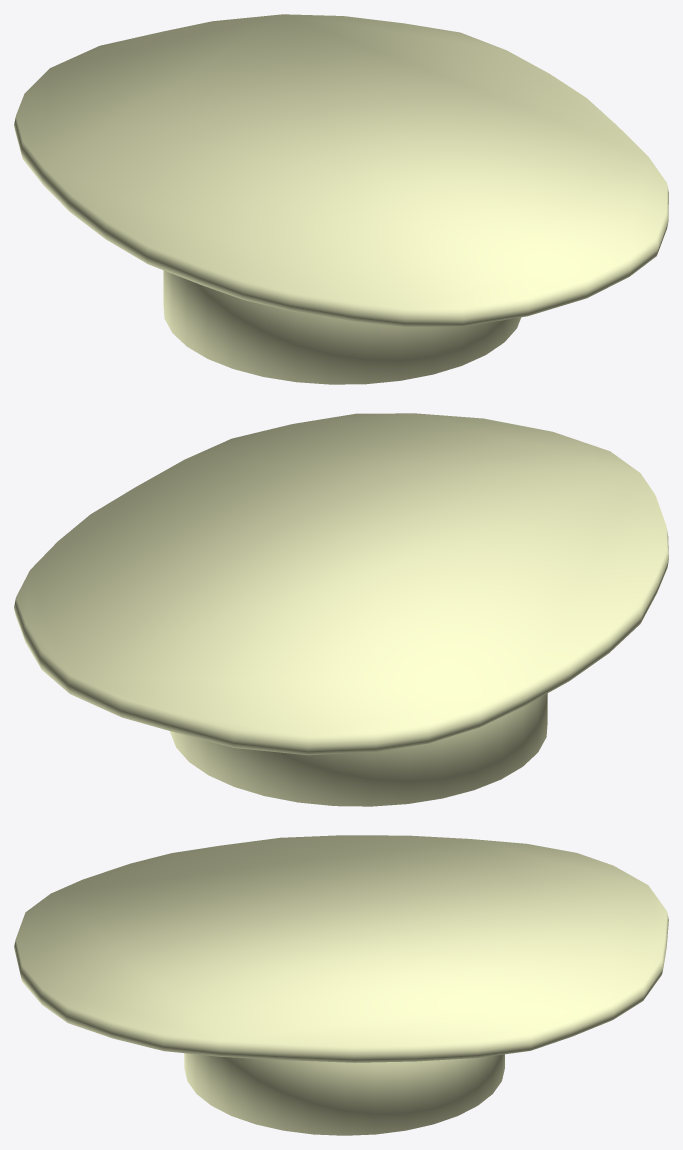
The model's file is ND-0939__Lira_MESA11.glb.
3 views of the same model, one above another, from view 1: azimuth 30°, elevation 25°; view 2: azimuth 150°, elevation 25°; view 3: azimuth 270°, elevation 25° (orthographic). The views are drawn at different scales.
Parts seen in each view (by area): view 1: Cylinder, Cylinder.001; view 2: Cylinder, Cylinder.001; view 3: Cylinder, Cylinder.001.
Boxes of the visible parts, box(x1,y1,x2,y2) form: Cylinder: box(14, 14, 668, 326); Cylinder.001: box(163, 270, 521, 384); Cylinder: box(14, 413, 668, 755); Cylinder.001: box(170, 693, 547, 806); Cylinder: box(14, 835, 668, 1062); Cylinder.001: box(184, 1053, 504, 1135).
Size of the model in its own units: 2.73 by 0.7768 by 3.56.
